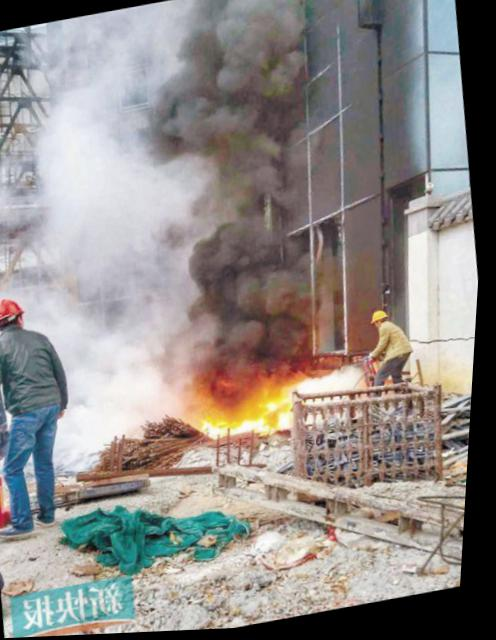fire: (204, 380, 305, 442)
